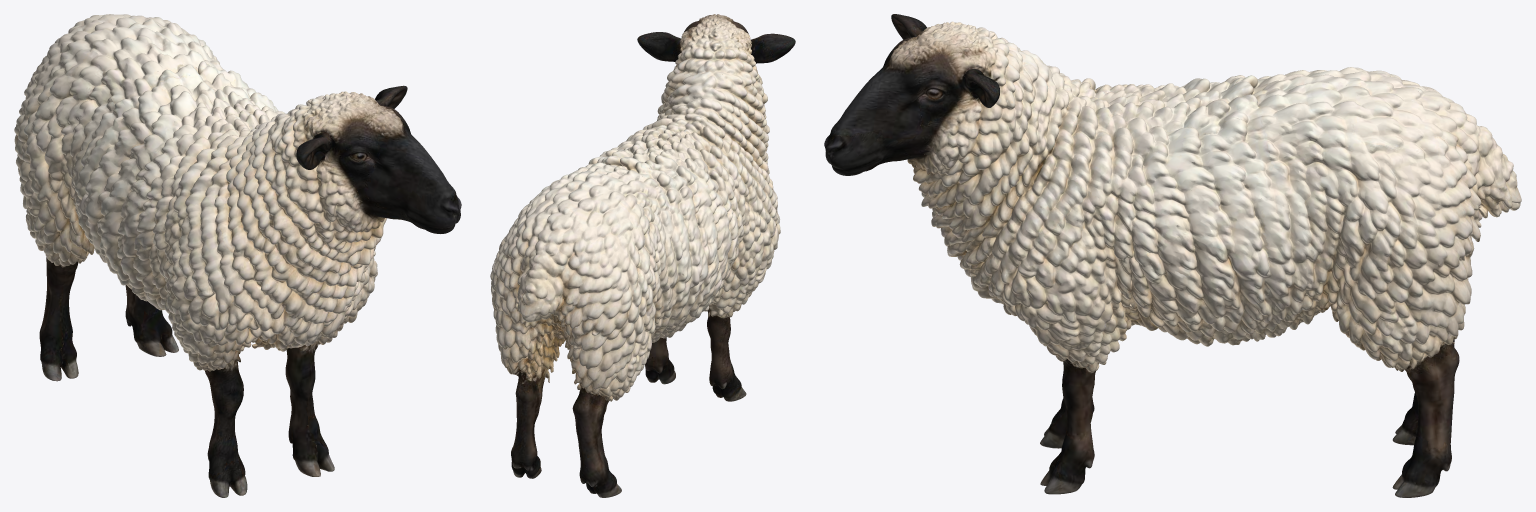
Rendered from CC0_Sheep_Grab3D.glb.
3 views of the same model, side by side, from view 1: azimuth 30°, elevation 25°; view 2: azimuth 150°, elevation 25°; view 3: azimuth 270°, elevation 25° (orthographic). The views are drawn at different scales.
Visible parts, largest first — view 1: sheep; view 2: sheep; view 3: sheep.
Boxes of the visible parts, x1,y1,x2,y2 form: sheep: [14, 14, 461, 497]; sheep: [490, 14, 795, 497]; sheep: [824, 14, 1521, 497].
Bounding box in the file's own units: 0.4758 × 0.9252 × 1.3.
1 material, 1 textured.
